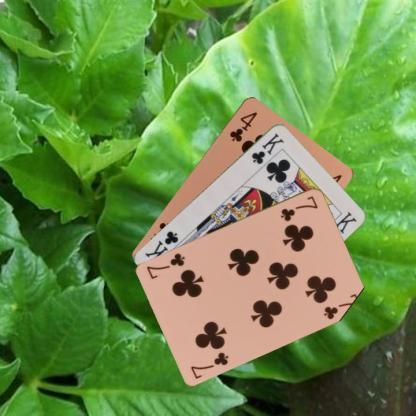4c: (227, 109, 259, 143)
7c: (188, 349, 230, 380), (278, 193, 319, 222)
Kc: (249, 130, 286, 165)
